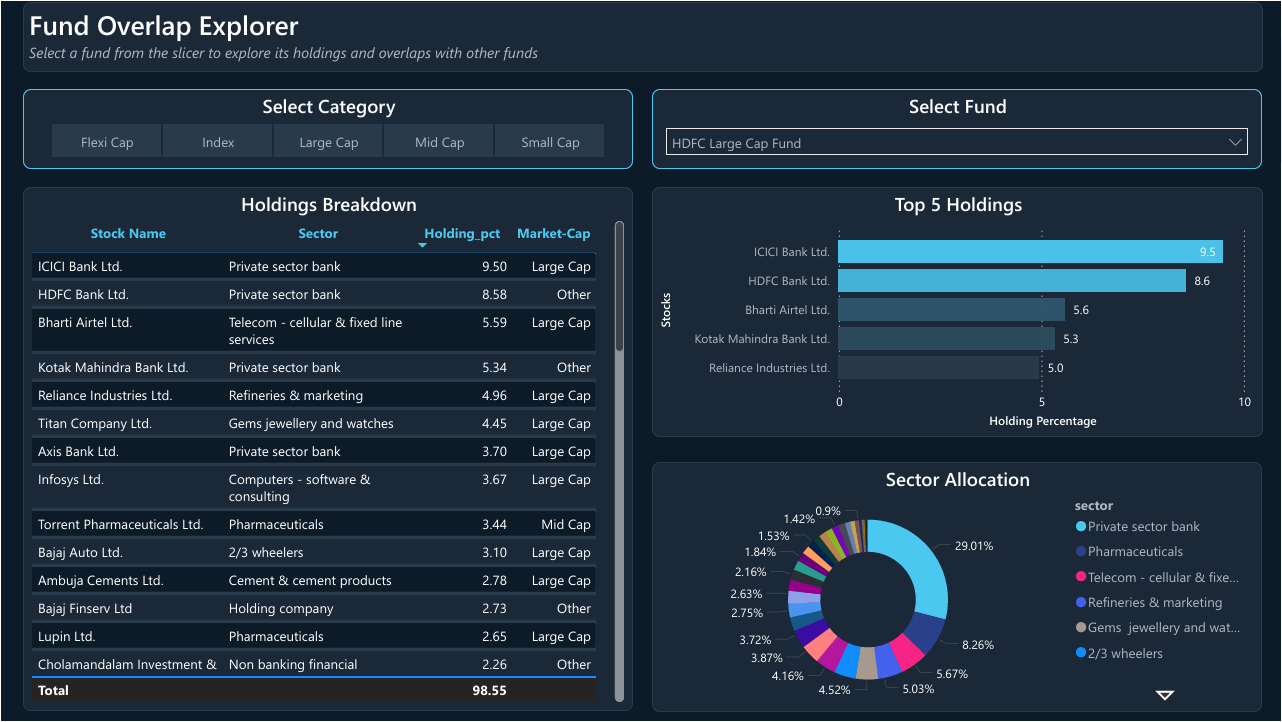

What the dashboard file says about the page in this screenshot:
{"tool":"powerbi","page":{"name":"Overlap Explorer","canvas":[1280,720],"ordinal":1},"visuals":[{"type":"textbox","box":[20.5,0,1240,70],"z":0},{"type":"slicer","title":"Select Category","fields":{"Values":["mutual_fund_holdings_dashboard.fund_category"]},"box":[21,87,610,80],"z":1000},{"type":"slicer","title":"Select Fund","fields":{"Values":["mutual_fund_holdings_dashboard.fund_name"]},"box":[650,87,610,80],"z":2000},{"type":"tableEx","title":"Holdings Breakdown","fields":{"Values":["mutual_fund_holdings_dashboard.stock_name","mutual_fund_holdings_dashboard.sector","Sum(mutual_fund_holdings_dashboard.holding_pct)","mutual_fund_holdings_dashboard.market_cap"]},"box":[20.5,184.6,610,524],"z":3000},{"type":"clusteredBarChart","title":"Top 5 Holdings","fields":{"Category":["mutual_fund_holdings_dashboard.stock_name"],"Y":["Sum(mutual_fund_holdings_dashboard.holding_pct)"]},"box":[650.4,185.2,610.6,250],"z":4000},{"type":"donutChart","title":"Sector Allocation","fields":{"Category":["mutual_fund_holdings_dashboard.sector"],"Y":["Sum(mutual_fund_holdings_dashboard.holding_pct)"]},"box":[650,460,610,250],"z":5000}]}

Visuals, with their boxes in screenshot pixels (x1, y1, x2, y2), scaled from the page's 1280x720 canvas onto the 1282x722 screenshot:
textbox: 21, 0, 1262, 70
"Select Category" slicer: 21, 87, 632, 167
"Select Fund" slicer: 651, 87, 1262, 167
"Holdings Breakdown" tableEx: 21, 185, 631, 711
"Top 5 Holdings" clusteredBarChart: 651, 186, 1263, 436
"Sector Allocation" donutChart: 651, 461, 1262, 712
